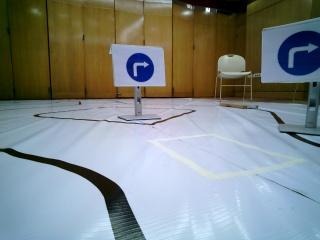right: (262, 30, 320, 79), (112, 45, 165, 84)
